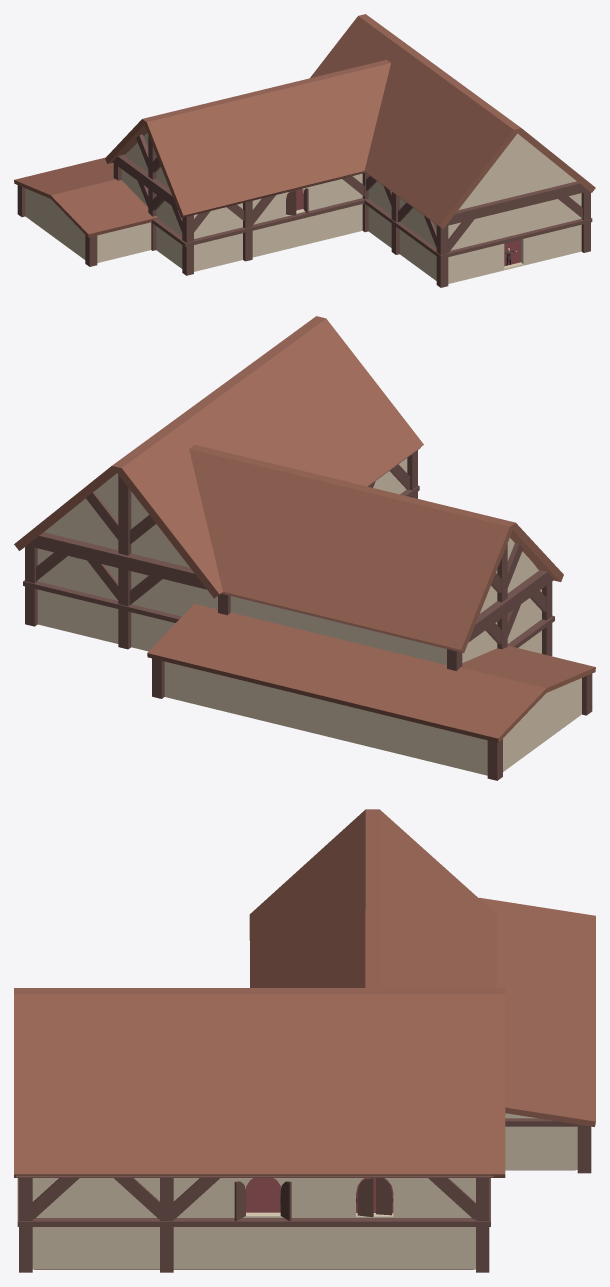
The model's file is brewery (3).fbx.
3 views of the same model, one above another, from view 1: azimuth 30°, elevation 25°; view 2: azimuth 150°, elevation 25°; view 3: azimuth 270°, elevation 25° (orthographic). The views are drawn at different scales.
Visible parts, largest first — view 1: Cube.007, Plane, Cube.008, Cube.009, Cube.001, Cube.012, Cube.031, floor, Cylinder; view 2: Cube.007, Plane, Cube.008, Cube.009, Cube.012, Cube.031, Cube.001; view 3: Cube.007, Plane, Cube.008, Cube.001, Cube.009, Cube.031, floor, Cube.012, Cylinder.002, Cylinder.001.
Boxes of the visible parts, x1=… form: Cube.007: x1=105, y1=14, x2=595, y2=228; Plane: x1=25, y1=133, x2=581, y2=283; Cube.008: x1=14, y1=157, x2=157, y2=237; Cube.009: x1=17, y1=135, x2=590, y2=287; Cube.001: x1=151, y1=198, x2=592, y2=258; Cube.012: x1=112, y1=154, x2=588, y2=227; Cube.031: x1=136, y1=134, x2=582, y2=252; floor: x1=286, y1=188, x2=520, y2=266; Cylinder: x1=286, y1=188, x2=308, y2=215; Cube.007: x1=14, y1=316, x2=563, y2=652; Plane: x1=37, y1=458, x2=581, y2=775; Cube.008: x1=147, y1=603, x2=595, y2=742; Cube.009: x1=25, y1=450, x2=592, y2=780; Cube.012: x1=27, y1=447, x2=554, y2=650; Cube.031: x1=36, y1=464, x2=546, y2=644; Cube.001: x1=23, y1=485, x2=554, y2=647; Cube.007: x1=14, y1=809, x2=505, y2=1177; Plane: x1=32, y1=1113, x2=577, y2=1269; Cube.008: x1=479, y1=898, x2=595, y2=1126; Cube.001: x1=17, y1=1118, x2=577, y2=1226; Cube.009: x1=19, y1=1124, x2=591, y2=1272; Cube.031: x1=32, y1=1178, x2=475, y2=1219; floor: x1=34, y1=1170, x2=575, y2=1269; Cube.012: x1=16, y1=1175, x2=493, y2=1177; Cylinder.002: x1=356, y1=1178, x2=393, y2=1217; Cylinder.001: x1=234, y1=1181, x2=291, y2=1221.
Bounding box in the file's own units: 8454 × 2925 × 6777.
